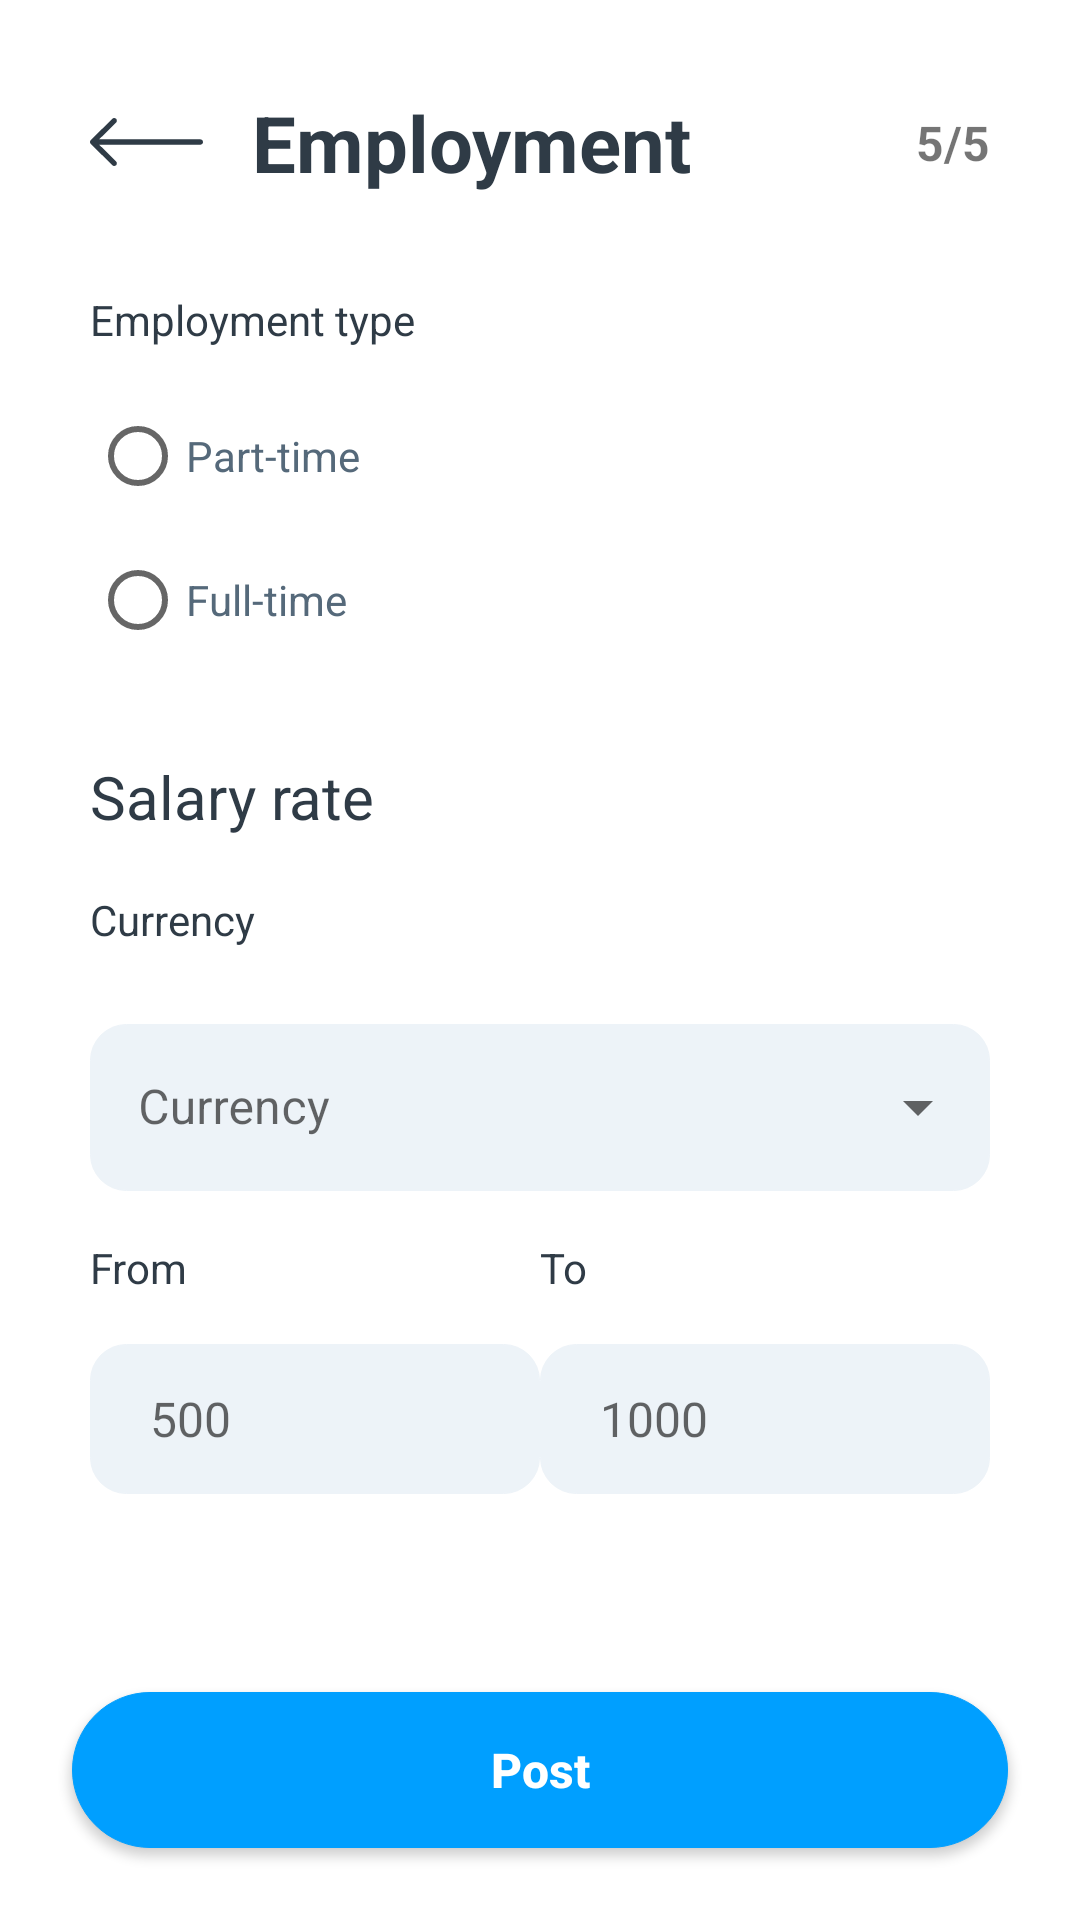

Where icons sit on this 1080px×1920px app screen, as [left=x1, top=y1, right=x2, bottom=y2]:
backward: [left=90, top=118, right=203, bottom=166]
